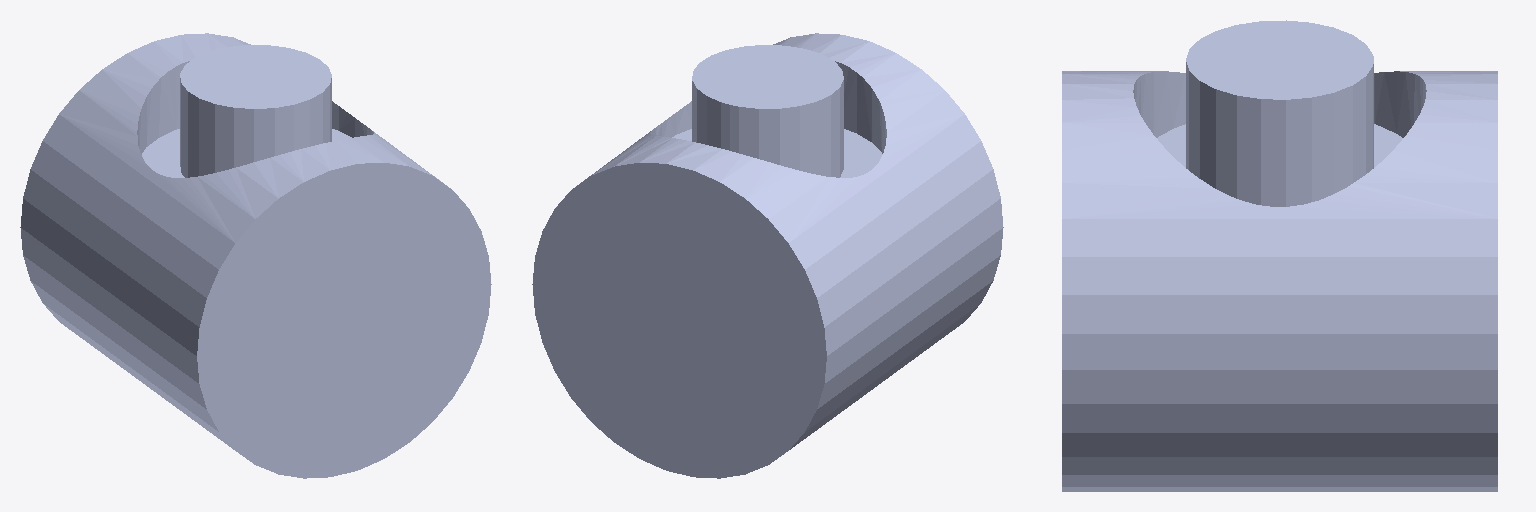
URDF robot description (URDF_Assembly):
<robot
  name="URDF_Assembly">
  <link
    name="base_link">
    <inertial>
      <origin
        xyz="0.0492162970047413 5.95458071073196E-07 0.0529040285215721"
        rpy="0 0 0" />
      <mass
        value="4.22878685506186" />
      <inertia
        ixx="0.0101055094560207"
        ixy="1.00321741381127E-07"
        ixz="0.00124057913167416"
        iyy="0.0283241950900698"
        iyz="-1.31569056983847E-07"
        izz="0.0299885108806431" />
    </inertial>
    <visual>
      <origin
        xyz="0 0 0"
        rpy="0 0 0" />
      <geometry>
        <mesh
          filename="package://URDF_Assembly/meshes/base_link.STL" />
      </geometry>
      <material
        name="">
        <color
          rgba="1 1 1 1" />
      </material>
    </visual>
    <collision>
      <origin
        xyz="0 0 0"
        rpy="0 0 0" />
      <geometry>
        <mesh
          filename="package://URDF_Assembly/meshes/base_link.STL" />
      </geometry>
    </collision>
  </link>
  <link
    name="roll_link">
    <inertial>
      <origin
        xyz="2.96915144581966E-07 -0.00817928723072138 0.120962910647003"
        rpy="0 0 0" />
      <mass
        value="0.37905420680448" />
      <inertia
        ixx="0.00156534155265803"
        ixy="7.86255262568044E-09"
        ixz="1.53529042690406E-08"
        iyy="0.00178123169436239"
        iyz="1.62349609777295E-06"
        izz="0.000959456942468469" />
    </inertial>
    <visual>
      <origin
        xyz="0 0 0"
        rpy="0 0 0" />
      <geometry>
        <mesh
          filename="package://URDF_Assembly/meshes/roll_link.STL" />
      </geometry>
      <material
        name="">
        <color
          rgba="0.843137254901961 0.815686274509804 0.752941176470588 1" />
      </material>
    </visual>
    <collision>
      <origin
        xyz="0 0 0"
        rpy="0 0 0" />
      <geometry>
        <mesh
          filename="package://URDF_Assembly/meshes/roll_link.STL" />
      </geometry>
    </collision>
  </link>
  <joint
    name="joint_link"
    type="continuous">
    <origin
      xyz="0.128 0 0.083499"
      rpy="-1.1928E-15 1.643E-15 -1.5708" />
    <parent
      link="base_link" />
    <child
      link="roll_link" />
    <axis
      xyz="0 0 1" />
  </joint>
  <link
    name="lift_link">
    <inertial>
      <origin
        xyz="-3.66305969445868E-08 -0.000820052992464293 -6.62529991840577E-08"
        rpy="0 0 0" />
      <mass
        value="1.02342370509176" />
      <inertia
        ixx="0.00185674588732204"
        ixy="2.50286442134684E-09"
        ixz="-3.11007993614261E-09"
        iyy="0.00185731655609116"
        iyz="2.89693722882194E-09"
        izz="0.00152396319769825" />
    </inertial>
    <visual>
      <origin
        xyz="0 0 0"
        rpy="0 0 0" />
      <geometry>
        <mesh
          filename="package://URDF_Assembly/meshes/lift_link.STL" />
      </geometry>
      <material
        name="">
        <color
          rgba="0.792156862745098 0.819607843137255 0.933333333333333 1" />
      </material>
    </visual>
    <collision>
      <origin
        xyz="0 0 0"
        rpy="0 0 0" />
      <geometry>
        <mesh
          filename="package://URDF_Assembly/meshes/lift_link.STL" />
      </geometry>
    </collision>
  </link>
  <joint
    name="lift_joint"
    type="continuous">
    <origin
      xyz="0 0.012 0.23278"
      rpy="1.5708 4.9887E-16 -1.5708" />
    <parent
      link="roll_link" />
    <child
      link="lift_link" />
    <axis
      xyz="0 0 1" />
  </joint>
  <link
    name="roll_out_link">
    <inertial>
      <origin
        xyz="2.95918343953816E-07 -0.00817929053321127 0.120962914055862"
        rpy="0 0 0" />
      <mass
        value="0.379054155435228" />
      <inertia
        ixx="0.00156534149041716"
        ixy="7.87124230687917E-09"
        ixz="1.53521121042397E-08"
        iyy="0.0017812314412631"
        iyz="1.62346180124863E-06"
        izz="0.000959456711865231" />
    </inertial>
    <visual>
      <origin
        xyz="0 0 0"
        rpy="0 0 0" />
      <geometry>
        <mesh
          filename="package://URDF_Assembly/meshes/roll_out_link.STL" />
      </geometry>
      <material
        name="">
        <color
          rgba="0.843137254901961 0.815686274509804 0.752941176470588 1" />
      </material>
    </visual>
    <collision>
      <origin
        xyz="0 0 0"
        rpy="0 0 0" />
      <geometry>
        <mesh
          filename="package://URDF_Assembly/meshes/roll_out_link.STL" />
      </geometry>
    </collision>
  </link>
  <joint
    name="roll_out_joint"
    type="continuous">
    <origin
      xyz="0 0.035953 0"
      rpy="1.5708 -3.8798E-16 -3.1416" />
    <parent
      link="lift_link" />
    <child
      link="roll_out_link" />
    <axis
      xyz="0 0 1" />
  </joint>
</robot>

--- Facts derived from the render (not from the file) ---
The picture shows the robot from 3 angles, left to right: view 1: azimuth 30°, elevation 25°; view 2: azimuth 150°, elevation 25°; view 3: azimuth 270°, elevation 25°; orthographic projection.
Robot: URDF_Assembly — 4 links, 3 joints (3 continuous); root link base_link; default pose: every joint at zero.
Visible links, largest first — view 1: lift_link; view 2: lift_link; view 3: lift_link.
Boxes of the visible links, x1=… form: lift_link: x1=20, y1=33, x2=491, y2=478; lift_link: x1=532, y1=33, x2=1003, y2=478; lift_link: x1=1062, y1=20, x2=1497, y2=491.
Size in the robot's own frame: 0.1089 by 0.113 by 0.1174 metres.
1 mesh visuals loaded from 4 distinct referenced files (1 binary STL); not drawn: 3 (reference not matched to a file when rendering).